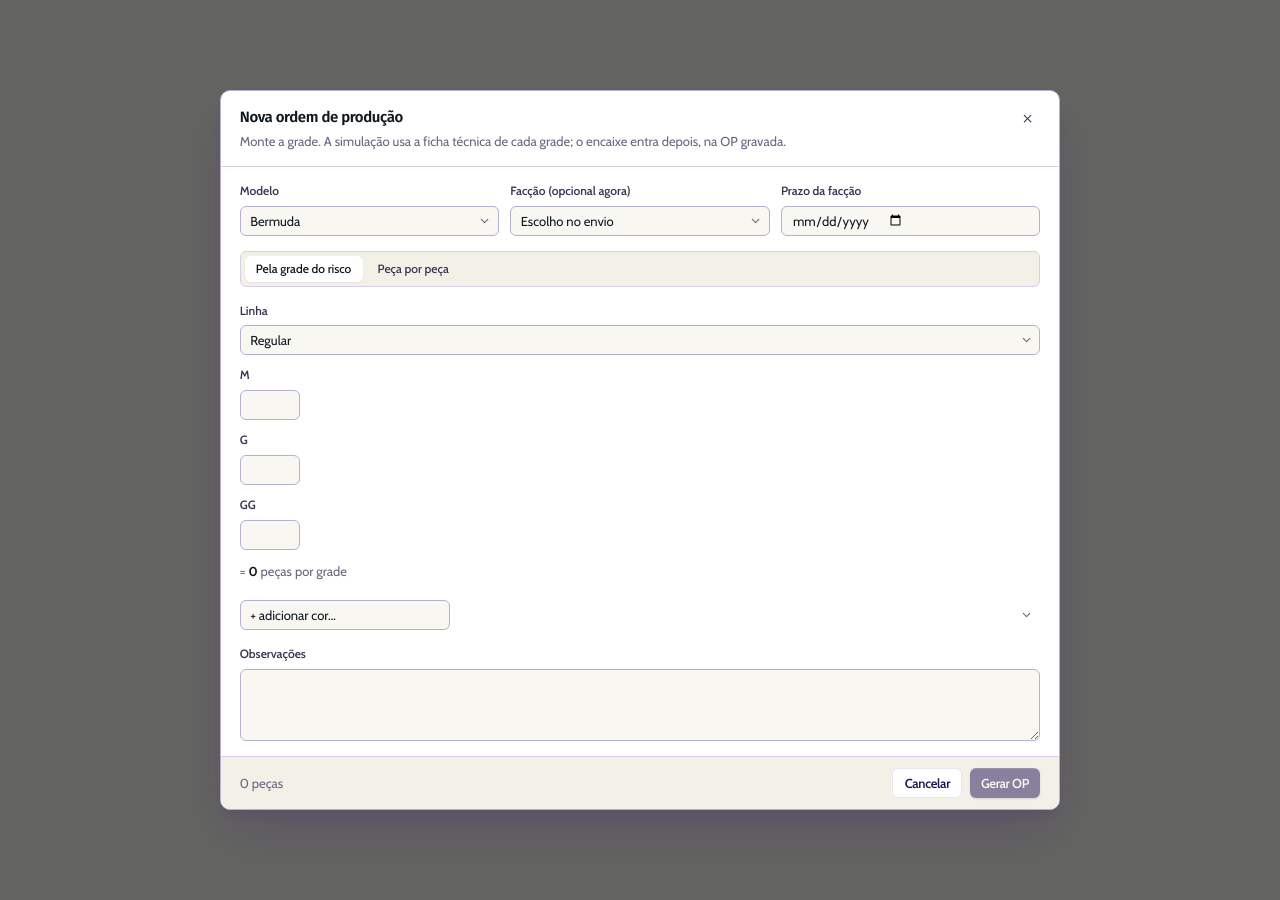
Nova OP — pela grade do risco › "Peça por peça" segue existindo e não manda grade do risco
This screenshot has width=1280, height=900.
What coordinates should you click on to do the following:
click the button "Peça por peça"
I would click on:
 (413, 269)
Its box is [366, 256, 460, 282].
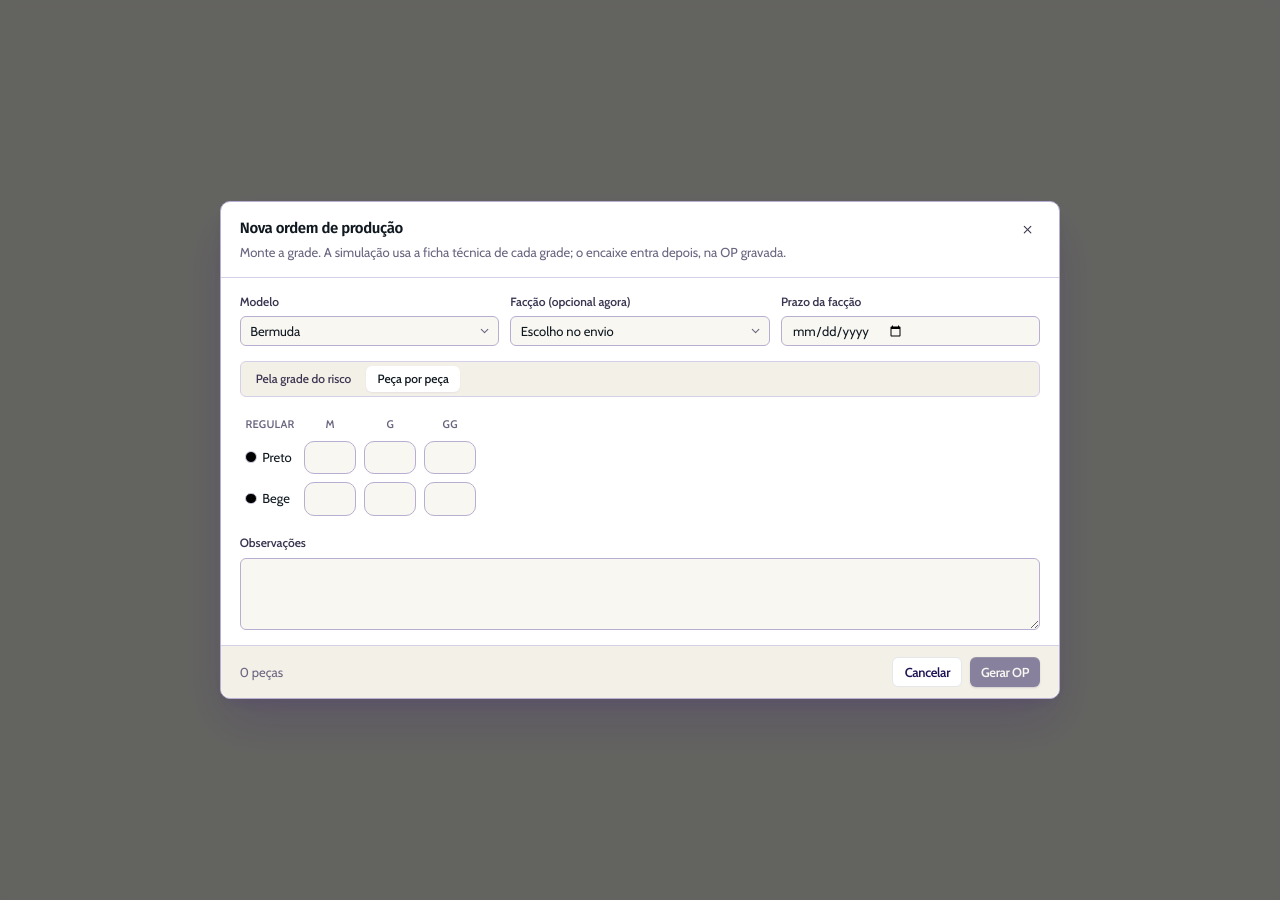
Now the element with test id "op-pela-grade" is gone
Now the element with test id "op-grade" is shown, box [245, 417, 476, 516]
